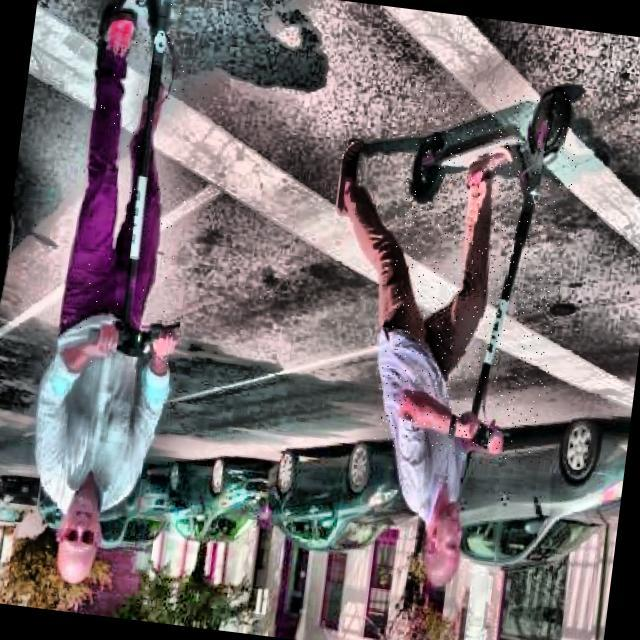bike: (334, 85, 640, 585)
